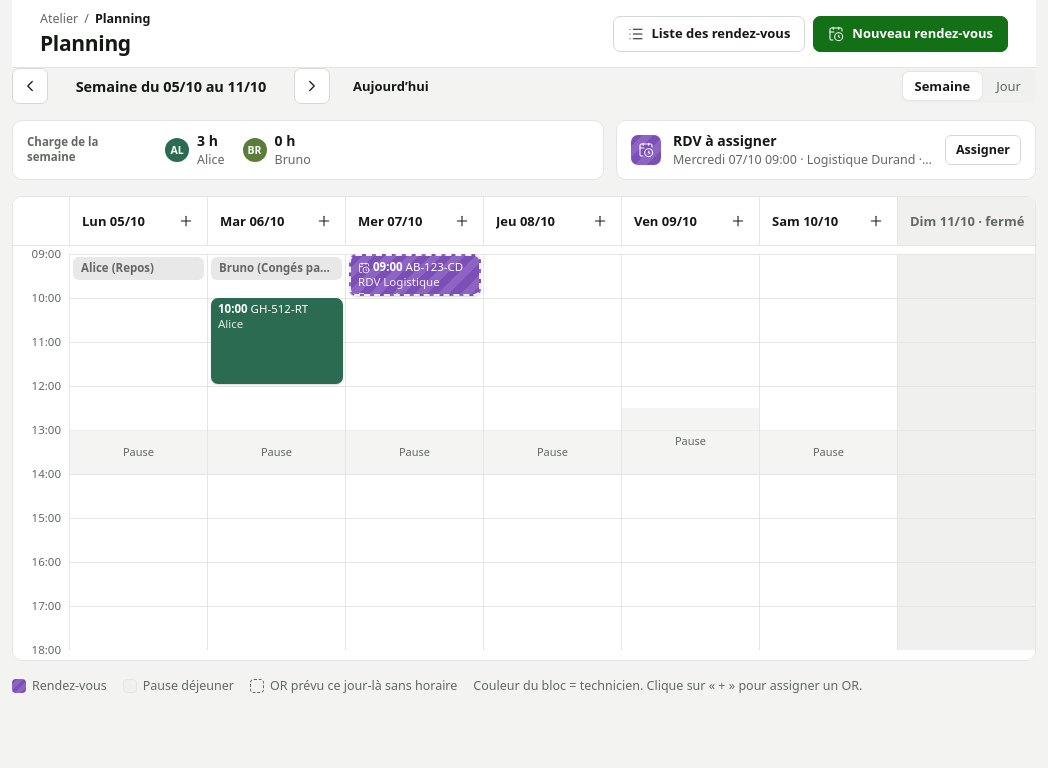
planning : écran › navigation : semaine suivante, vue jour
Click the button named "Semaine suivante": (312, 86) [294,68,330,104]
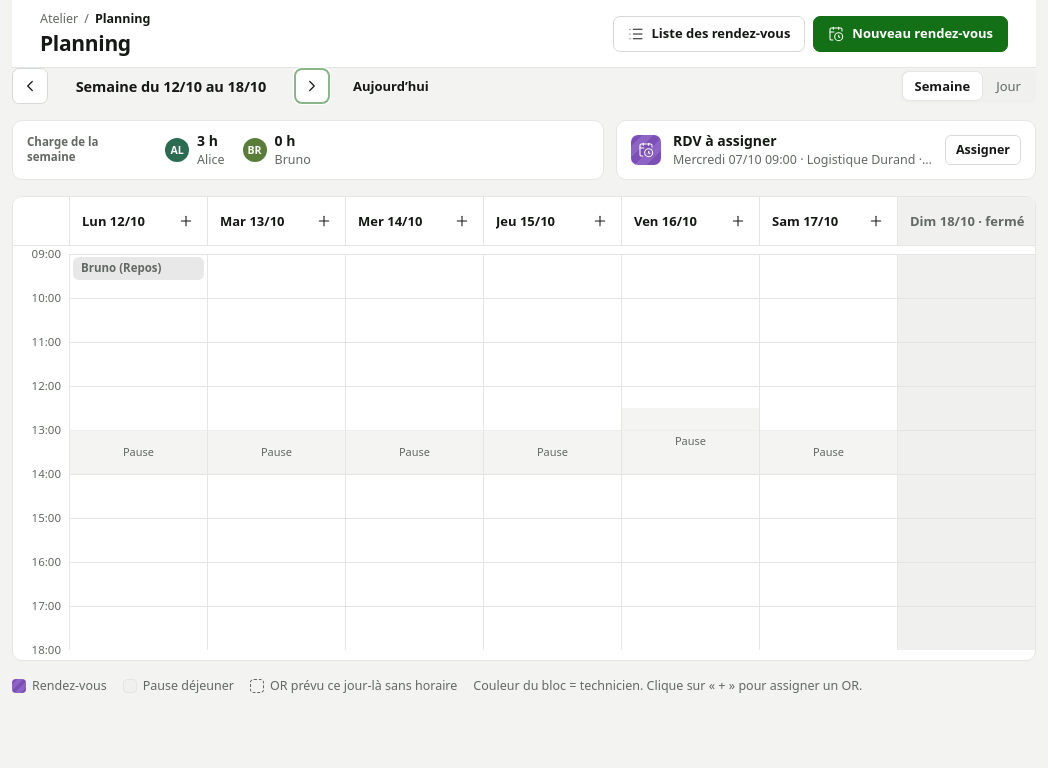
Result: the heading "Semaine du 12/10 au 18/10" is shown at [76,76,266,96]
Click the button "Jour": (1009, 86) [984,72,1033,100]
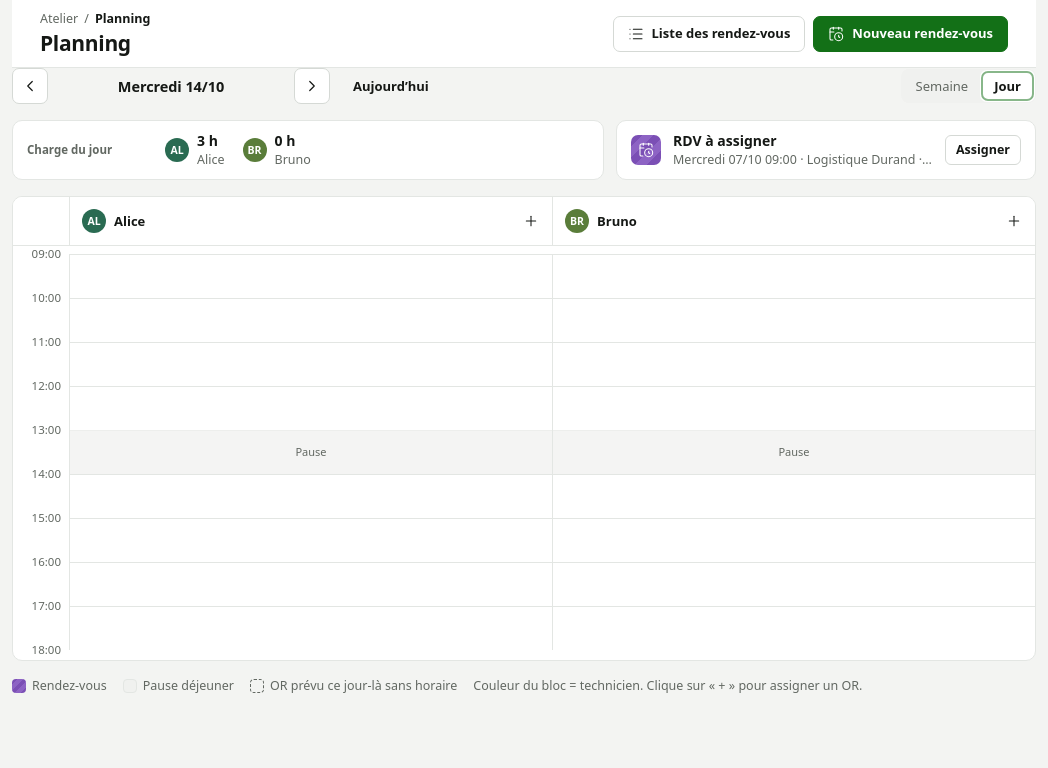
Result: the heading "Mercredi 14/10" is shown at [118,76,224,96]
